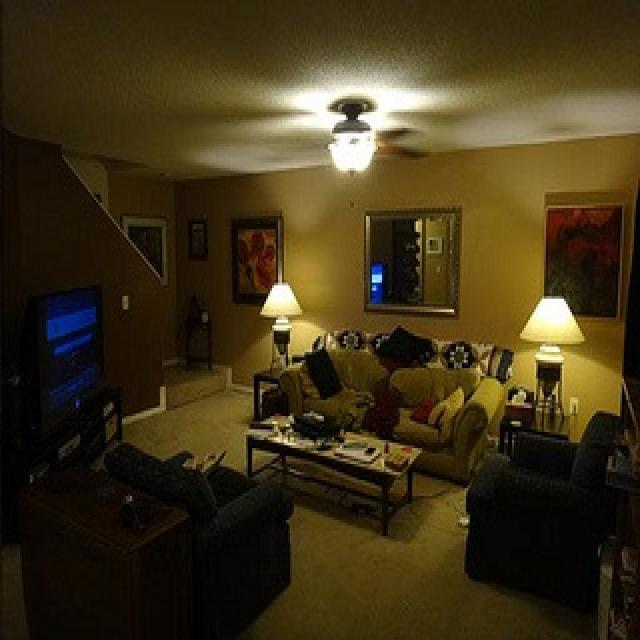Table: (240, 398, 424, 530), (0, 366, 131, 517)
chair: (2, 448, 291, 640), (473, 384, 639, 614), (278, 330, 535, 474)
